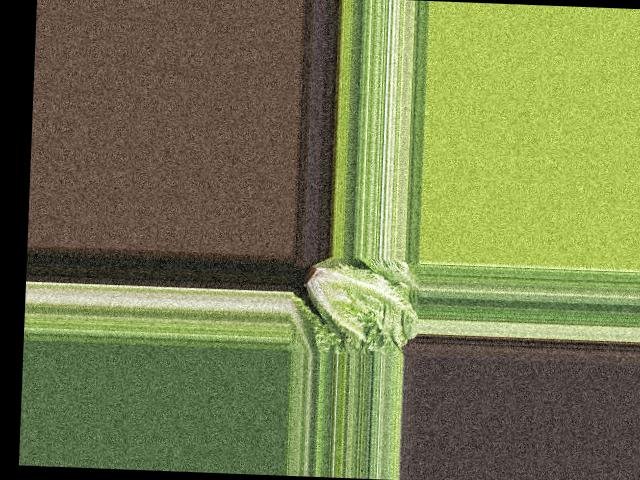lettuce: (295, 254, 419, 349)
